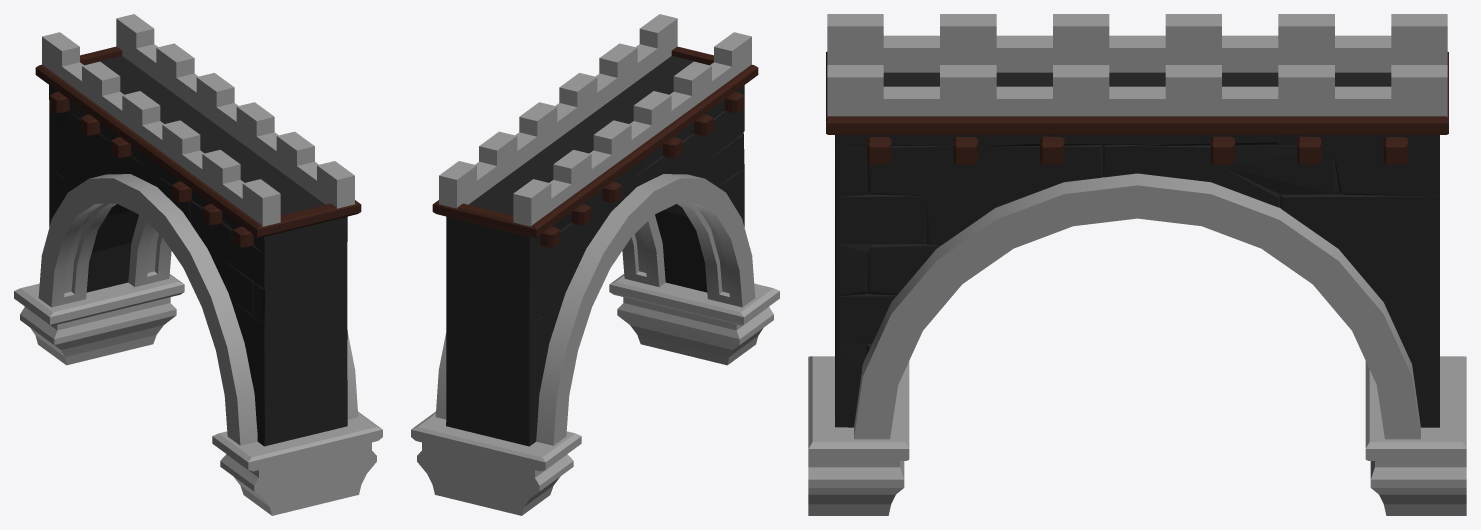
The model's file is civilian_bridge_3_a.FBX.
The picture shows the model from 3 angles, left to right: view 1: azimuth 30°, elevation 25°; view 2: azimuth 150°, elevation 25°; view 3: azimuth 270°, elevation 25°; orthographic projection. The views are drawn at different scales.
Visible parts, largest first — view 1: civilian_bridge_3_a; view 2: civilian_bridge_3_a; view 3: civilian_bridge_3_a.
Part boxes in pixels (x1,y1,x2,y2): civilian_bridge_3_a: [14, 14, 382, 515]; civilian_bridge_3_a: [411, 14, 779, 515]; civilian_bridge_3_a: [808, 14, 1466, 515].
Size of the model in its own units: 361 by 804 by 1088.
